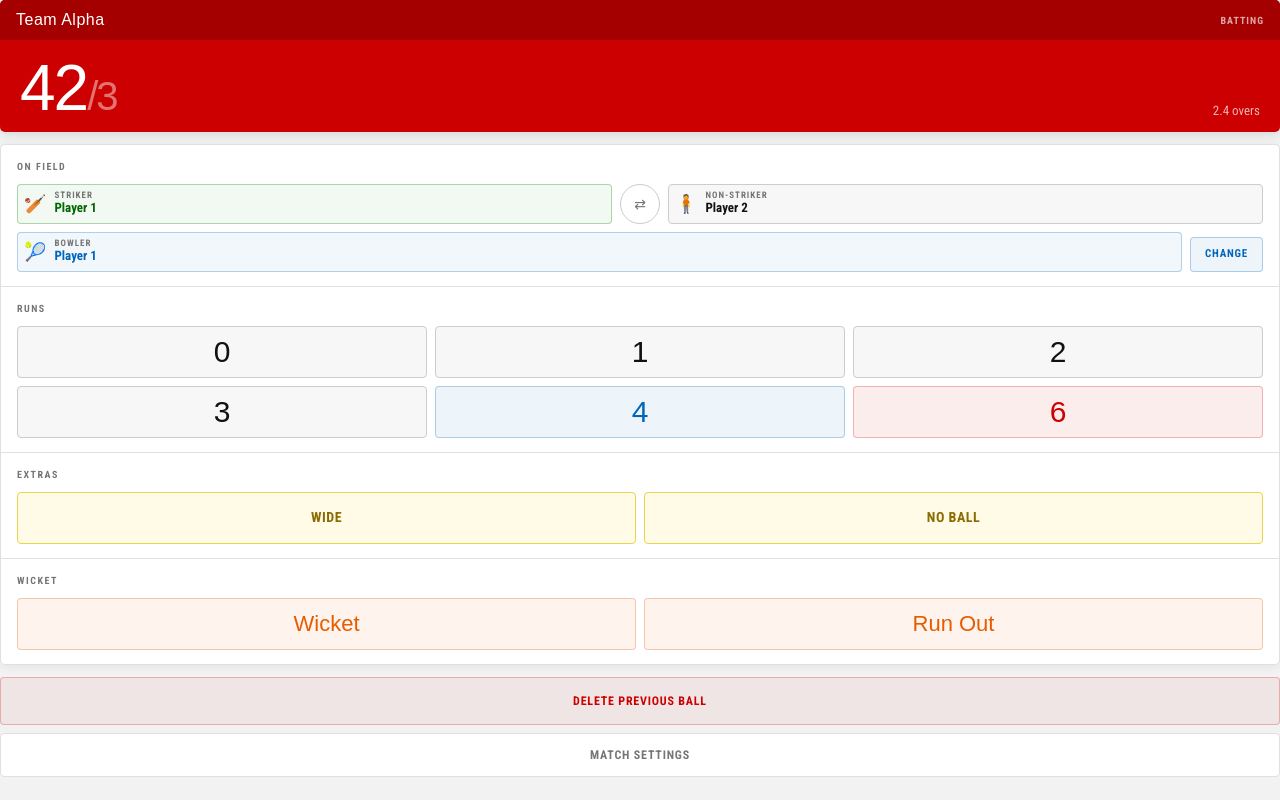
Test: UmpireControls › opens No Ball popup when No Ball button is clicked
The width and height of the screenshot is (1280, 800).
Step 1. Click the button "No Ball" → {"x": 954, "y": 518}, box [644,492,1263,544]
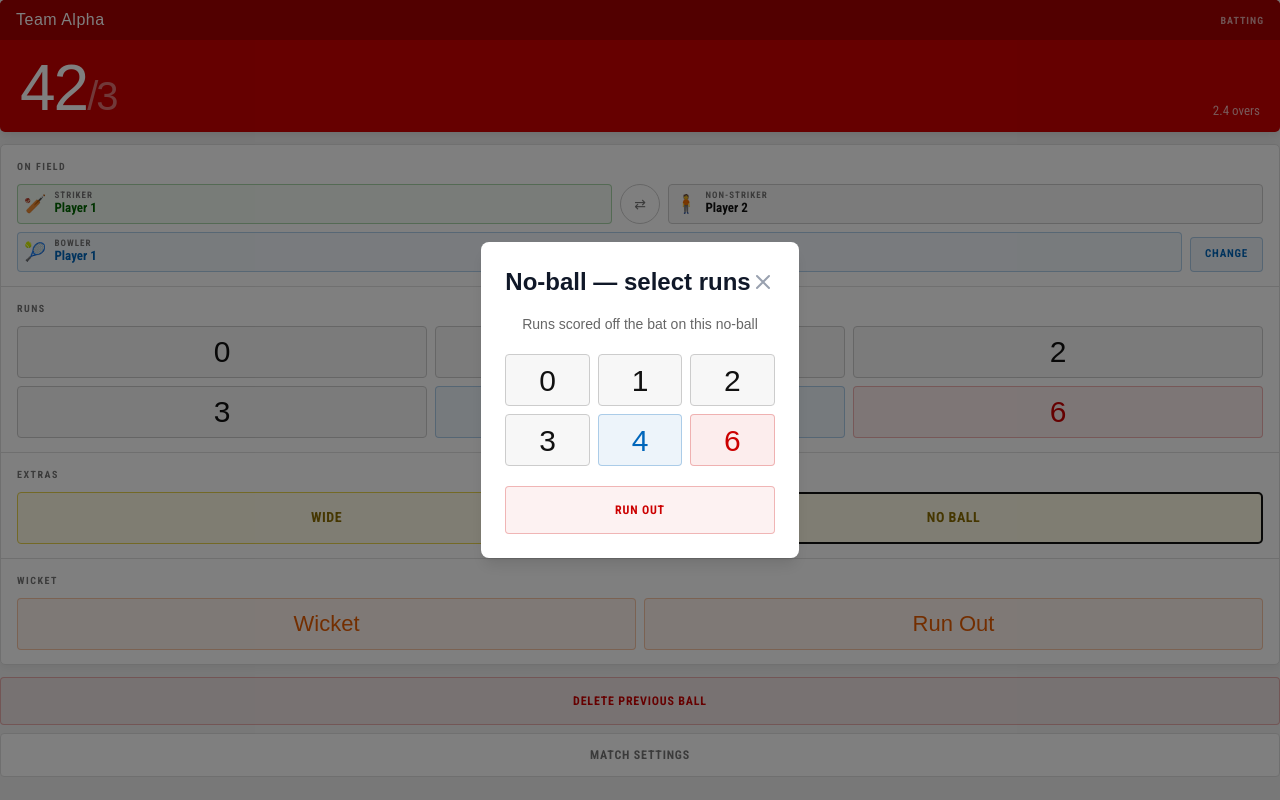
Expected: the heading "No-ball — select runs" is shown, [505,266,751,298]
